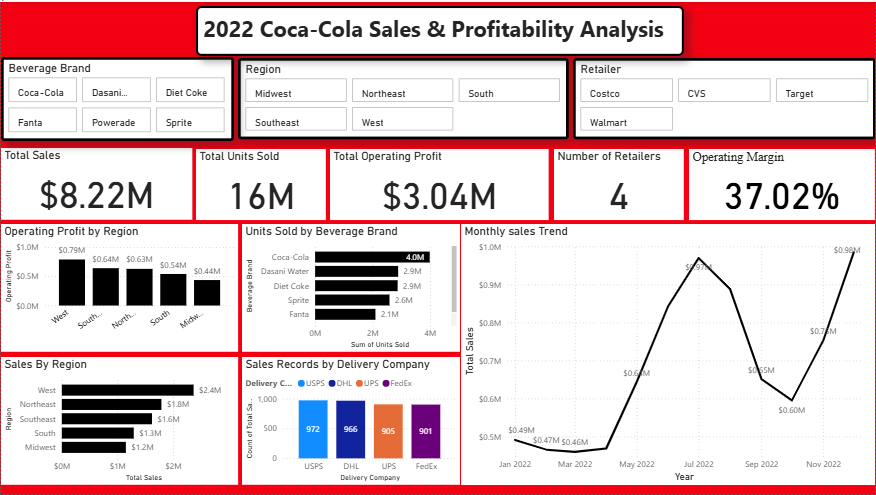

Layout of this report page (visuals, bound fields, positions):
{"tool":"powerbi","page":{"name":"Page 1","canvas":[1280,720],"ordinal":0},"visuals":[{"type":"barChart","title":"Sales By Region","fields":{"Category":["Data.Region"],"Y":["Sum(Data.Total Sales)"]},"box":[0,519.5,346.8,187.3],"z":0},{"type":"lineChart","title":"Monthly sales Trend","fields":{"Y":["Sum(Data.Total Sales)"],"Category":["Data.Invoice Date.Variation.Date Hierarchy.Year","Data.Invoice Date.Variation.Date Hierarchy.Month"]},"box":[673.2,324.9,605.9,382],"z":1000},{"type":"barChart","title":"Units Sold by Beverage Brand","fields":{"Y":["Sum(Data.Units Sold)"],"Category":["Data.Beverage Brand"]},"box":[352.7,324.9,319,187.3],"z":2000},{"type":"card","title":"Total Sales","fields":{"Values":["Sum(Data.Total Sales)"]},"box":[0,213.7,279.5,105.4],"z":3000},{"type":"card","title":"Total Operating Profit","fields":{"Values":["Data.Total op profit"]},"box":[481.5,215.1,320.5,103.9],"z":4000},{"type":"card","title":"Total Units Sold","fields":{"Values":["Data.Total units sold"]},"box":[285.4,215.1,190.2,103.9],"z":5000},{"type":"card","title":"Number of Retailers","fields":{"Values":["Data.Unique retailer"]},"box":[809.3,215.1,190.2,103.9],"z":6000},{"type":"card","title":"Operating Margin","fields":{"Values":["Data.Total operating marging"]},"box":[1006.8,215.1,272.2,103.9],"z":7000},{"type":"columnChart","title":"Sales Records by Delivery Company","fields":{"Category":["Data.Delivery Company"],"Y":["CountNonNull(Data.Total Sales)"],"Series":["Data.Delivery Company"]},"box":[352.7,519.5,319,187.3],"z":8000},{"type":"columnChart","title":"Operating Profit by Region","fields":{"Category":["Data.Region"],"Y":["Sum(Data.Operating Profit)"]},"box":[0,324.9,346.8,187.3],"z":9000},{"type":"advancedSlicerVisual","fields":{"Values":["Data.Region"]},"box":[346.8,82,484.4,118.5],"z":10000},{"type":"advancedSlicerVisual","fields":{"Values":["Data.Beverage Brand"]},"box":[0,80.5,341,122.9],"z":11000},{"type":"advancedSlicerVisual","fields":{"Values":["Data.Retailer"]},"box":[836.6,82,443.4,118.5],"z":12000},{"type":"textbox","box":[285.4,5.9,714.1,73.2],"z":13000}]}

Visuals, with their boxes in screenshot pixels (x1, y1, x2, y2), scaled from the page's 1280x720 canvas onto the 876x495 screenshot:
"Sales By Region" barChart: x1=0 y1=357 x2=237 y2=486
"Monthly sales Trend" lineChart: x1=461 y1=223 x2=875 y2=486
"Units Sold by Beverage Brand" barChart: x1=241 y1=223 x2=460 y2=352
"Total Sales" card: x1=0 y1=147 x2=191 y2=219
"Total Operating Profit" card: x1=330 y1=148 x2=549 y2=219
"Total Units Sold" card: x1=195 y1=148 x2=325 y2=219
"Number of Retailers" card: x1=554 y1=148 x2=684 y2=219
"Operating Margin" card: x1=689 y1=148 x2=875 y2=219
"Sales Records by Delivery Company" columnChart: x1=241 y1=357 x2=460 y2=486
"Operating Profit by Region" columnChart: x1=0 y1=223 x2=237 y2=352
advancedSlicerVisual - Data.Region: x1=237 y1=56 x2=569 y2=138
advancedSlicerVisual - Data.Beverage Brand: x1=0 y1=55 x2=233 y2=140
advancedSlicerVisual - Data.Retailer: x1=573 y1=56 x2=875 y2=138
textbox: x1=195 y1=4 x2=684 y2=54
